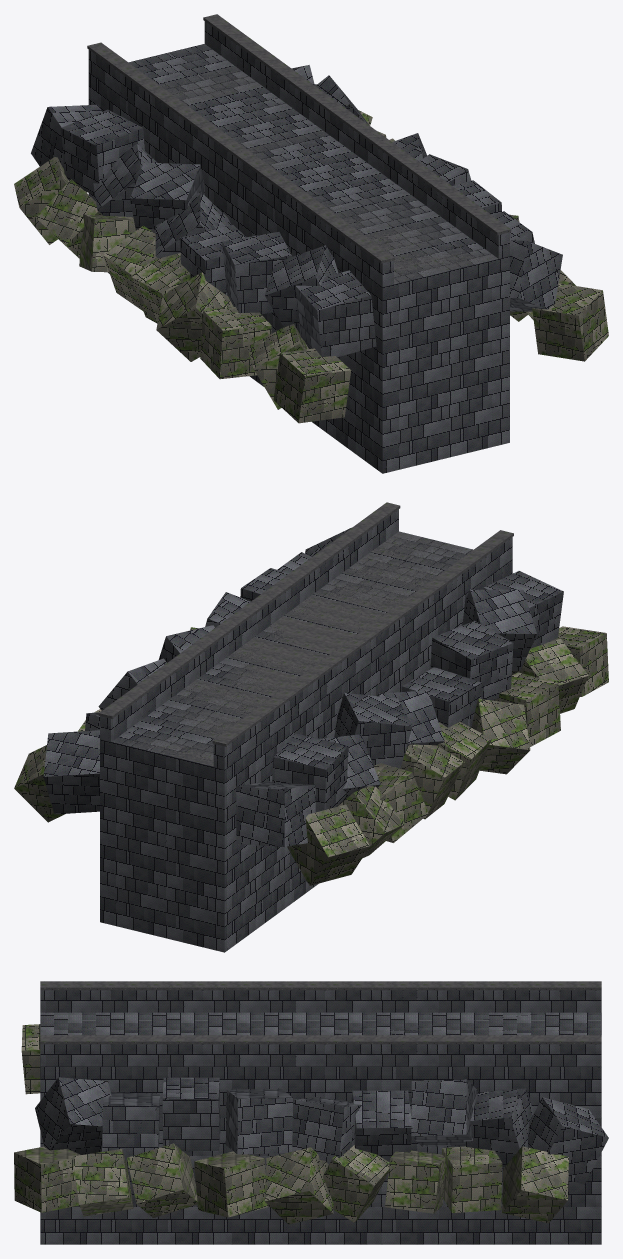
The model's file is dique_tramo.obj.
3 views of the same model, one above another, from view 1: azimuth 30°, elevation 25°; view 2: azimuth 150°, elevation 25°; view 3: azimuth 270°, elevation 25° (orthographic). The views are drawn at different scales.
Parts seen in each view (by area): view 1: dique_tramo; view 2: dique_tramo; view 3: dique_tramo.
Part boxes in pixels (<box>): dique_tramo: <box>14,14,608,473</box>; dique_tramo: <box>14,502,608,952</box>; dique_tramo: <box>14,981,608,1244</box>.
Size of the model in its own units: 14.45 by 8 by 21.2.
3 materials, 3 textured.
